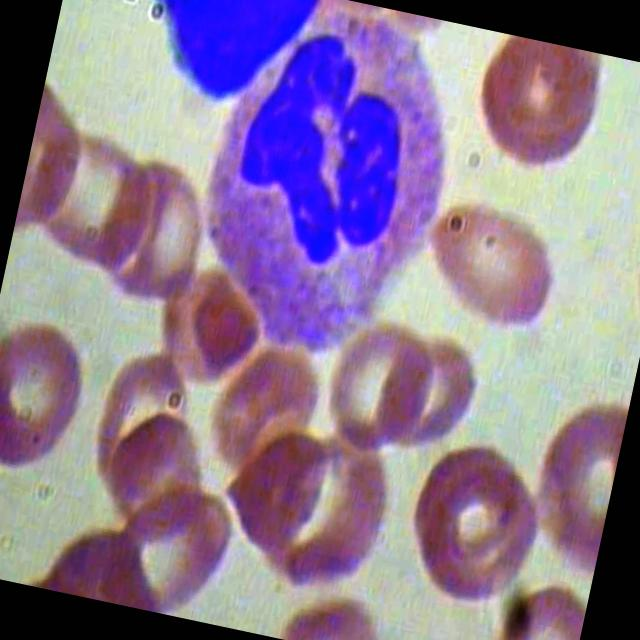RBC: (406, 172, 572, 354), (9, 110, 170, 288), (84, 389, 229, 564), (453, 27, 613, 181), (406, 451, 552, 618), (73, 148, 219, 315), (312, 316, 440, 474), (0, 312, 100, 489), (365, 324, 486, 466), (484, 565, 591, 640)
WBC: (156, 0, 471, 378), (119, 0, 327, 121)
